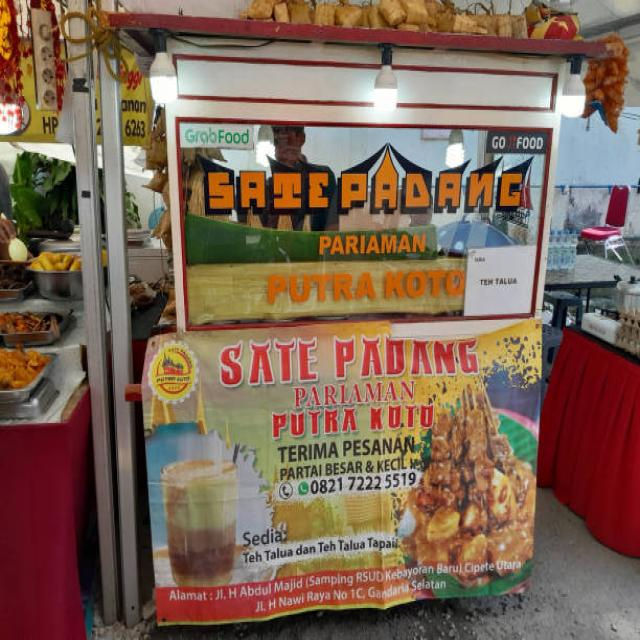Emperan: (65, 0, 634, 640)
